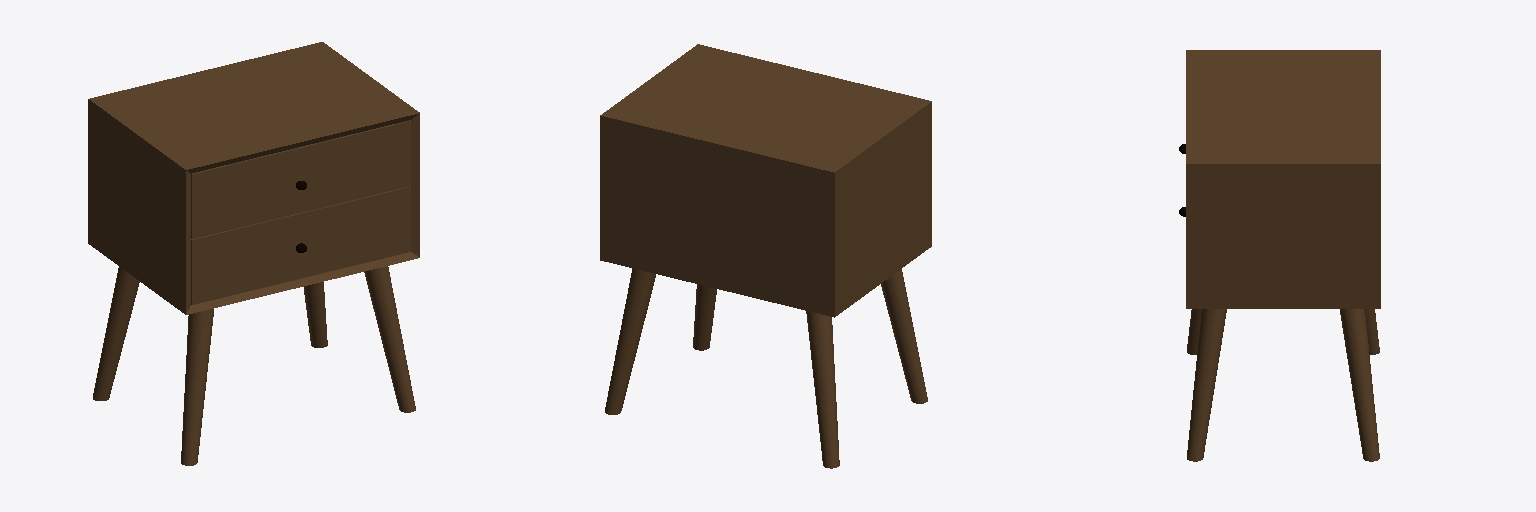
Rendered from drawer.obj.
3 views of the same model, side by side, from view 1: azimuth 30°, elevation 25°; view 2: azimuth 150°, elevation 25°; view 3: azimuth 270°, elevation 25° (orthographic).
Parts seen in each view (by area): view 1: Cube.074_Cube.355; view 2: Cube.074_Cube.355; view 3: Cube.074_Cube.355.
Boxes of the visible parts, <box> form: Cube.074_Cube.355: <box>88,42,419,465</box>; Cube.074_Cube.355: <box>600,44,931,468</box>; Cube.074_Cube.355: <box>1179,50,1380,461</box>.
Bounding box in the file's own units: 0.475 × 0.5764 × 0.3545.